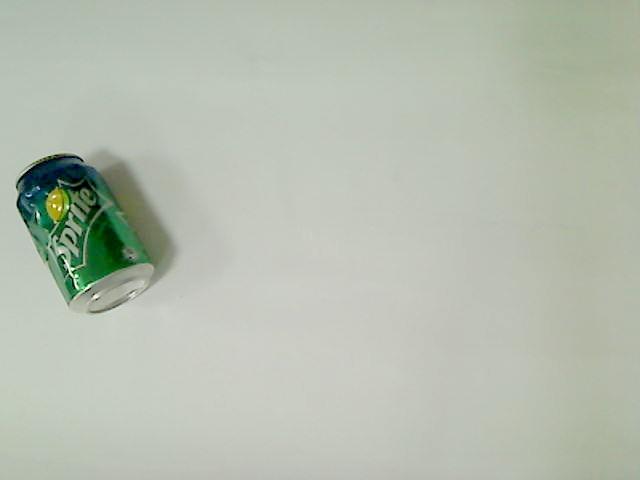can: (14, 152, 160, 318)
